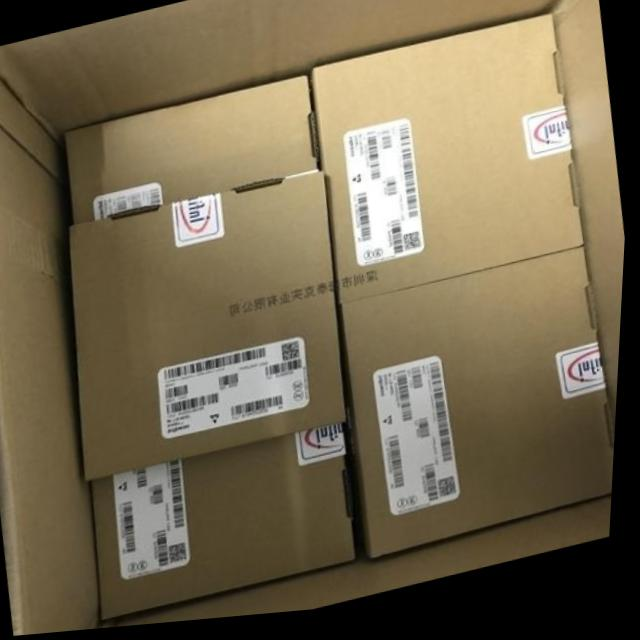box: (72, 176, 351, 483), (345, 260, 620, 566), (313, 27, 588, 311), (94, 431, 361, 624), (64, 81, 320, 229)
